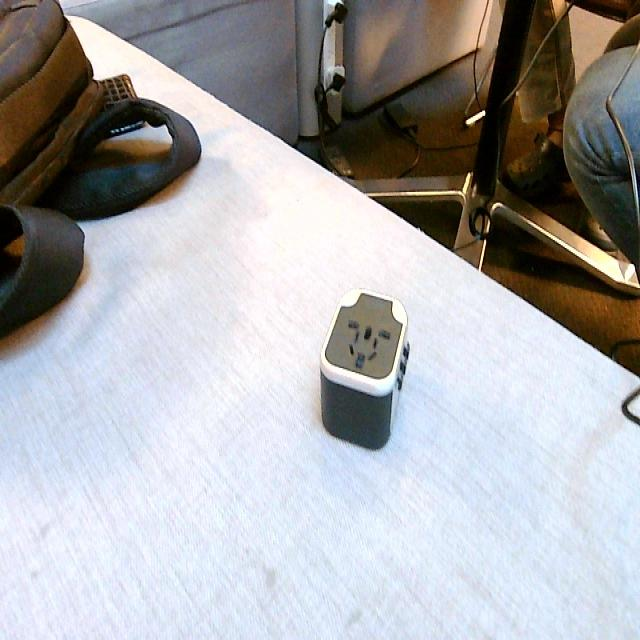adapter: (318, 287, 410, 449)
